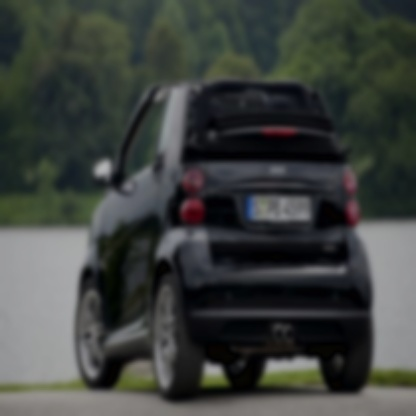Vehicle: (76, 81, 378, 404)
